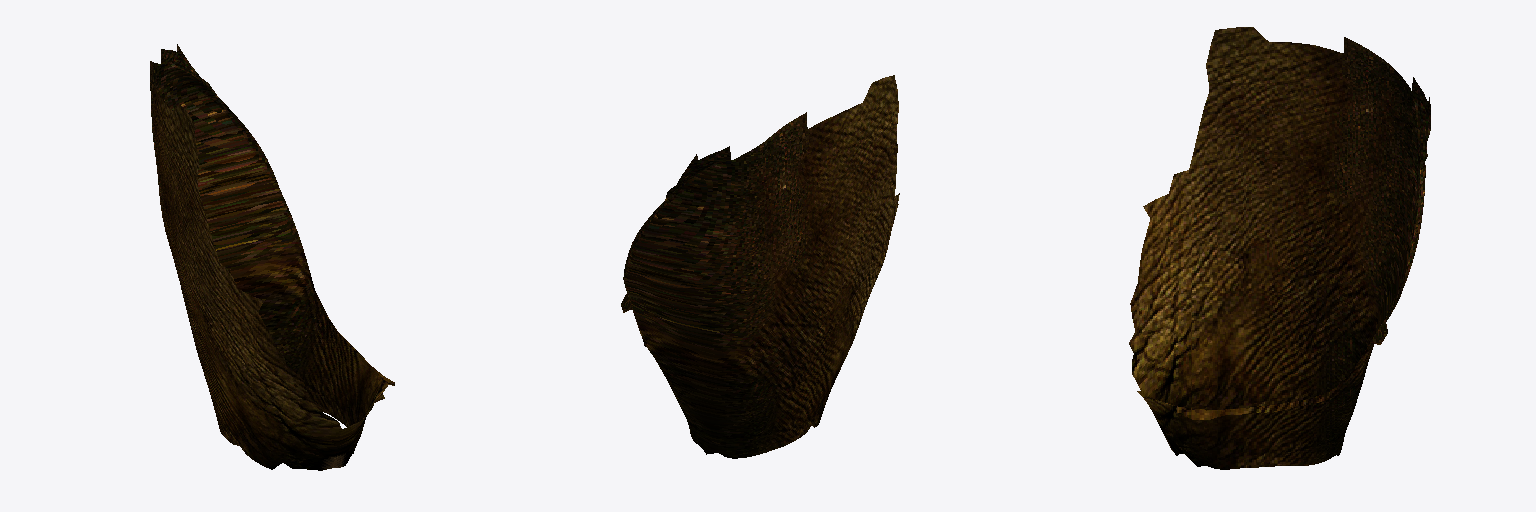
The picture shows the model from 3 angles: view 1: azimuth 30°, elevation 25°; view 2: azimuth 150°, elevation 25°; view 3: azimuth 270°, elevation 25°; orthographic projection.
Parts seen in each view (by area): view 1: ele_upper_rear_right; view 2: ele_upper_rear_right; view 3: ele_upper_rear_right.
Boxes of the visible parts, x1,y1,x2,y2 form: ele_upper_rear_right: [150, 44, 394, 470]; ele_upper_rear_right: [621, 75, 899, 458]; ele_upper_rear_right: [1129, 27, 1430, 469].
Bounding box in the file's own units: 1309 × 2439 × 1808.
1 materials, 1 textured.